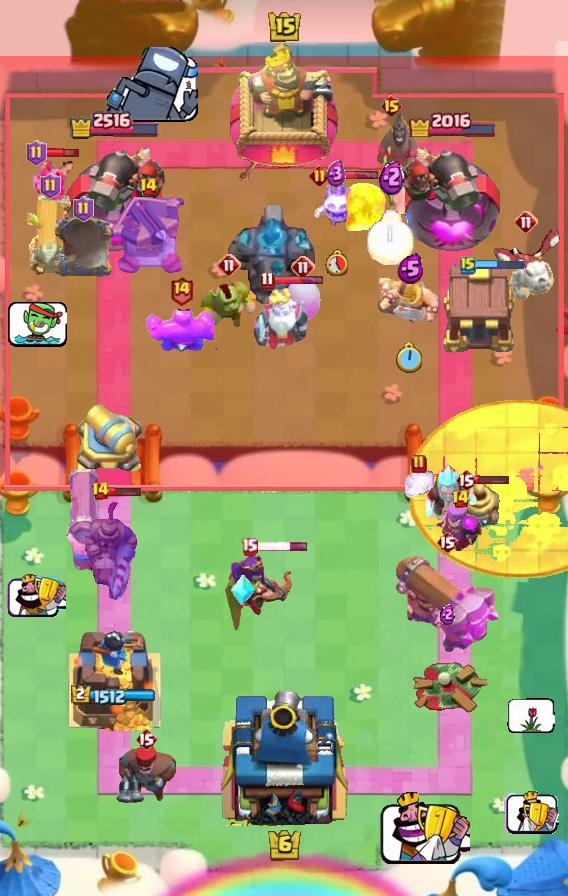barbarian-hut: (221, 549, 301, 637)
battle-healer: (61, 469, 107, 573), (27, 193, 73, 277)
bomb: (440, 261, 520, 355)
cannoneer-tower: (225, 201, 315, 305)
electro-spirit: (380, 159, 405, 195), (397, 253, 423, 285), (326, 160, 346, 188), (440, 603, 455, 625)
elixir: (367, 210, 415, 266), (396, 342, 424, 375), (324, 249, 347, 276)
emote: (473, 258, 525, 271), (256, 540, 309, 552), (272, 274, 324, 286), (327, 171, 379, 182), (44, 146, 80, 159), (106, 485, 142, 497), (474, 474, 509, 485)
flying-machine: (200, 278, 258, 332)
freeze: (362, 111, 420, 223)
furnace: (393, 553, 501, 653)
goblin-drill: (455, 480, 503, 530)
goblin-giant: (377, 278, 443, 328)
hog: (283, 278, 323, 322)
ice-spirit-evolution: (401, 467, 437, 503)
king-tower: (214, 684, 354, 826), (230, 43, 338, 181)
lava-pup: (107, 197, 189, 277)
mini-pekka: (490, 225, 562, 303)
mirror: (312, 180, 360, 228)
mortar: (419, 462, 479, 532)
mortar-evolution: (252, 286, 308, 352)
musketeer: (51, 214, 115, 280)
pad_2: (230, 574, 256, 606)
phoenix-egg: (410, 400, 568, 578)
phoenix-small: (113, 743, 179, 805)
queen-tower: (66, 621, 162, 731)
ram-rider: (82, 494, 140, 604)
rascal-girl: (432, 499, 488, 561)
royal-delivery: (32, 156, 74, 202)
royal-recruit: (74, 403, 148, 479)
selected: (68, 109, 160, 140), (408, 109, 498, 137), (71, 684, 157, 706)
skeleton: (107, 46, 198, 126), (379, 791, 469, 864), (5, 300, 66, 350), (6, 573, 66, 619), (503, 791, 559, 835), (507, 699, 555, 733)
text: (170, 275, 195, 306), (514, 210, 538, 234), (217, 253, 241, 277), (291, 255, 315, 279), (381, 94, 404, 118), (25, 140, 46, 166), (39, 173, 60, 199), (73, 196, 94, 222), (455, 468, 477, 492), (436, 530, 458, 554), (135, 727, 157, 751), (309, 166, 330, 187), (138, 177, 157, 197), (90, 481, 109, 501), (450, 489, 469, 509), (241, 537, 259, 555), (460, 255, 476, 275), (411, 454, 427, 474), (261, 271, 275, 289)
tornado: (145, 305, 217, 355)
tower-bar: (63, 136, 165, 256), (402, 136, 504, 256)
valkyrie: (343, 177, 389, 235)
